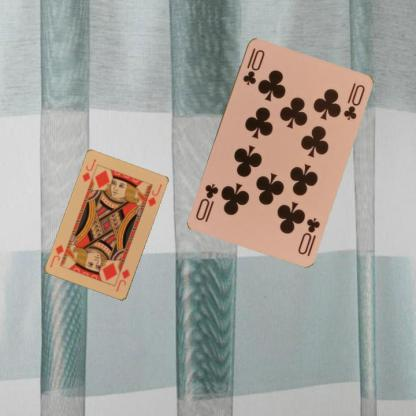10c: (295, 214, 321, 256), (240, 45, 266, 86)
Jd: (113, 266, 131, 293), (80, 157, 98, 183)
